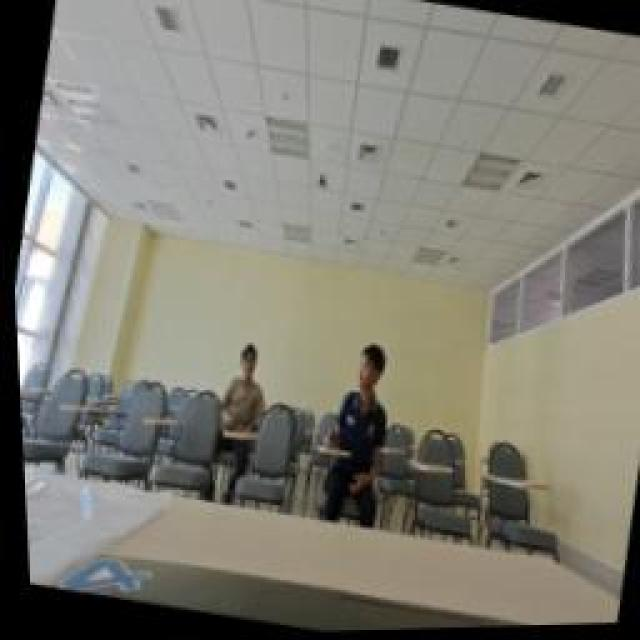study: (315, 335, 400, 467), (208, 340, 272, 438)
